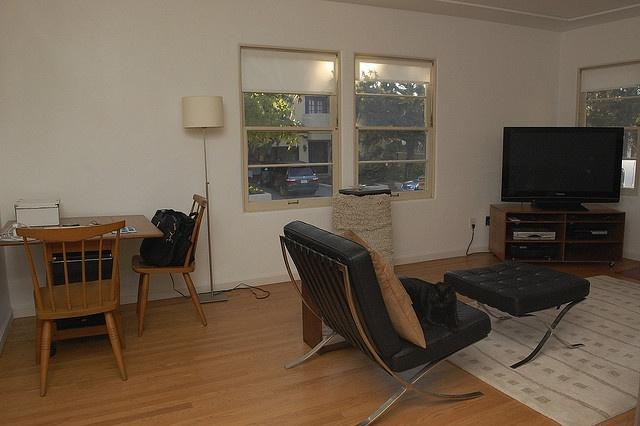AIO PC-Monitor-TV: (500, 124, 624, 210)
Kursi: (15, 219, 128, 398), (130, 193, 207, 337)
Meja: (0, 213, 163, 253)
